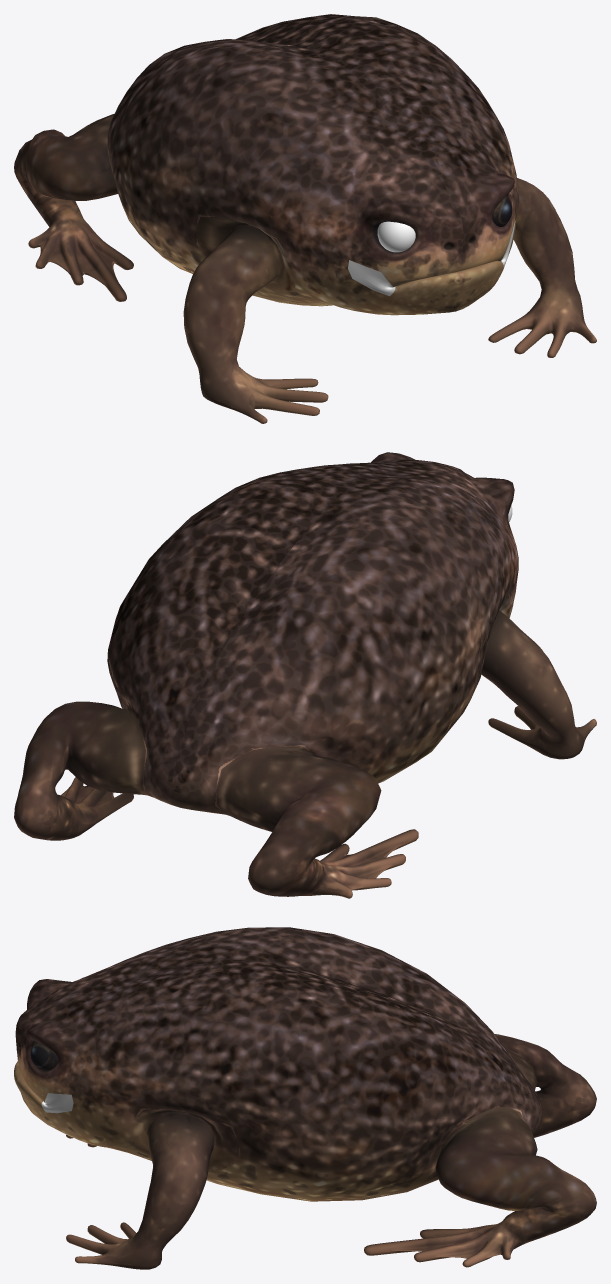
Rendered from frogey.obj.
The picture shows the model from 3 angles, top to bottom: view 1: azimuth 30°, elevation 25°; view 2: azimuth 150°, elevation 25°; view 3: azimuth 270°, elevation 25°; orthographic projection. The views are drawn at different scales.
Parts seen in each view (by area): view 1: RainFrog_Cube.001; view 2: RainFrog_Cube.001; view 3: RainFrog_Cube.001.
Part boxes in pixels (x1,y1,x2,y2): RainFrog_Cube.001: (14, 14, 596, 423); RainFrog_Cube.001: (14, 452, 596, 898); RainFrog_Cube.001: (14, 927, 596, 1269).
Size of the model in its own units: 6.48 by 4.23 by 9.56.
